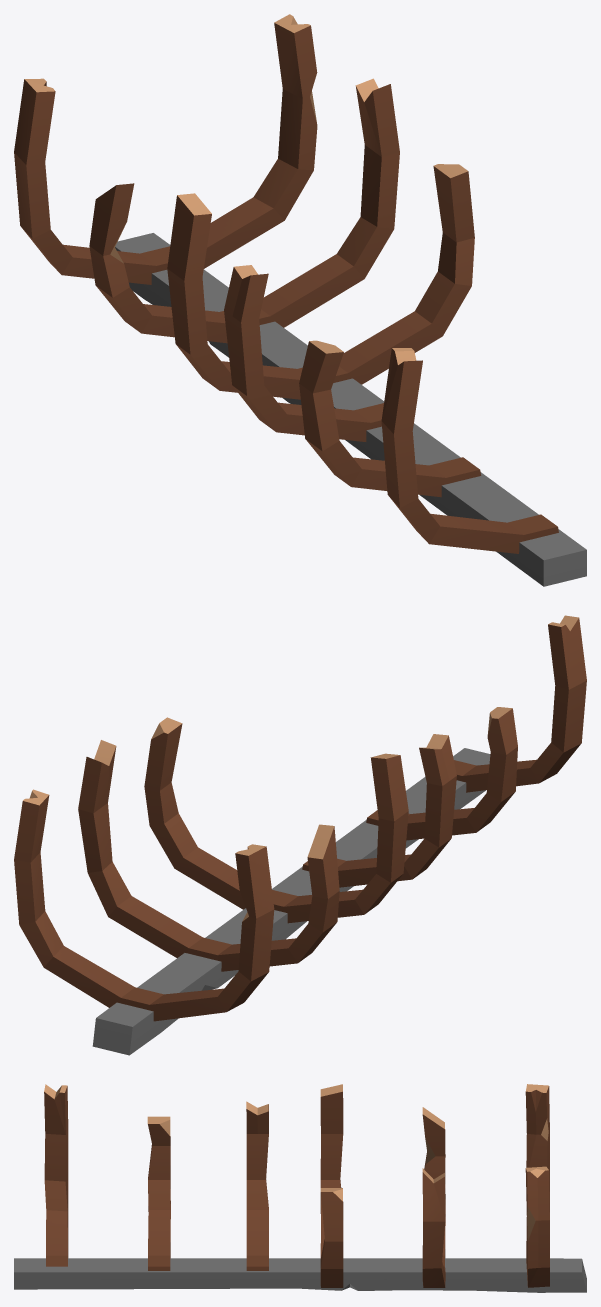
The model's file is destroyed-ship-2.glb.
The picture shows the model from 3 angles, top to bottom: view 1: azimuth 30°, elevation 25°; view 2: azimuth 150°, elevation 25°; view 3: azimuth 270°, elevation 25°; orthographic projection. The views are drawn at different scales.
Parts seen in each view (by area): view 1: destroyed ship 2; view 2: destroyed ship 2; view 3: destroyed ship 2.
Boxes of the visible parts, x1,y1,x2,y2 form: destroyed ship 2: (14,14,586,586); destroyed ship 2: (14,615,586,1055); destroyed ship 2: (14,1084,586,1292).
Bounding box in the file's own units: 4.86 × 3.81 × 12.53.
Materials: 1 (1 with a texture image).
